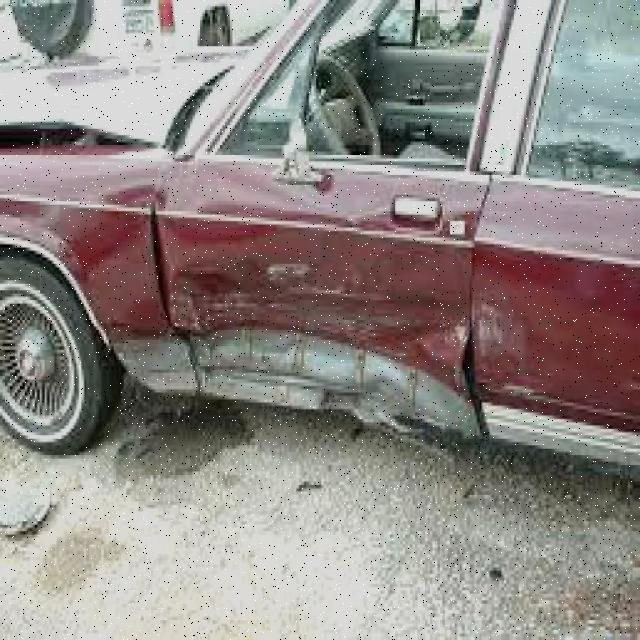car damage: (1, 121, 512, 441)
